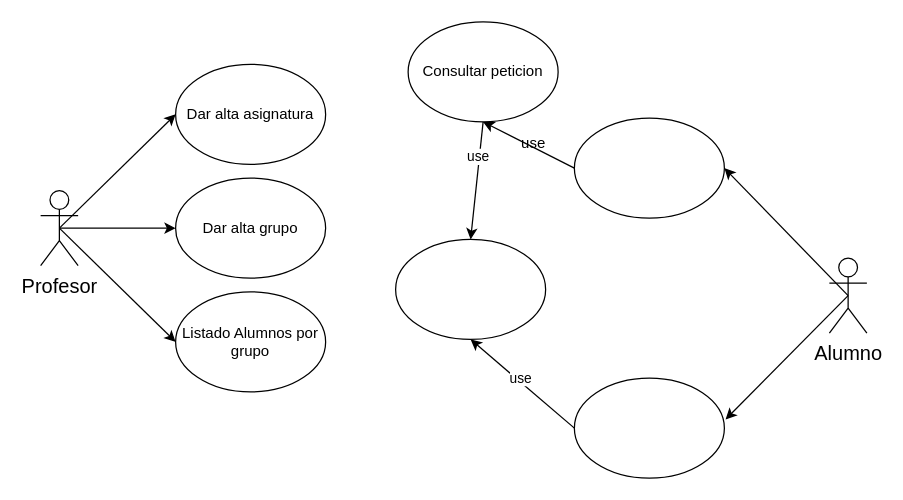
Some shapes in this 903 by 500 pixel diagram are drawn without their labels. The shapes that lost their labels are listed below. From the top down, each one's box as (x1, y1, x2, y2) in pixels, then its label:
(573, 117, 724, 218): Solicitar cambio
(394, 238, 546, 339): Comprobar su matriculación
(573, 377, 724, 478): Publicar cambio
